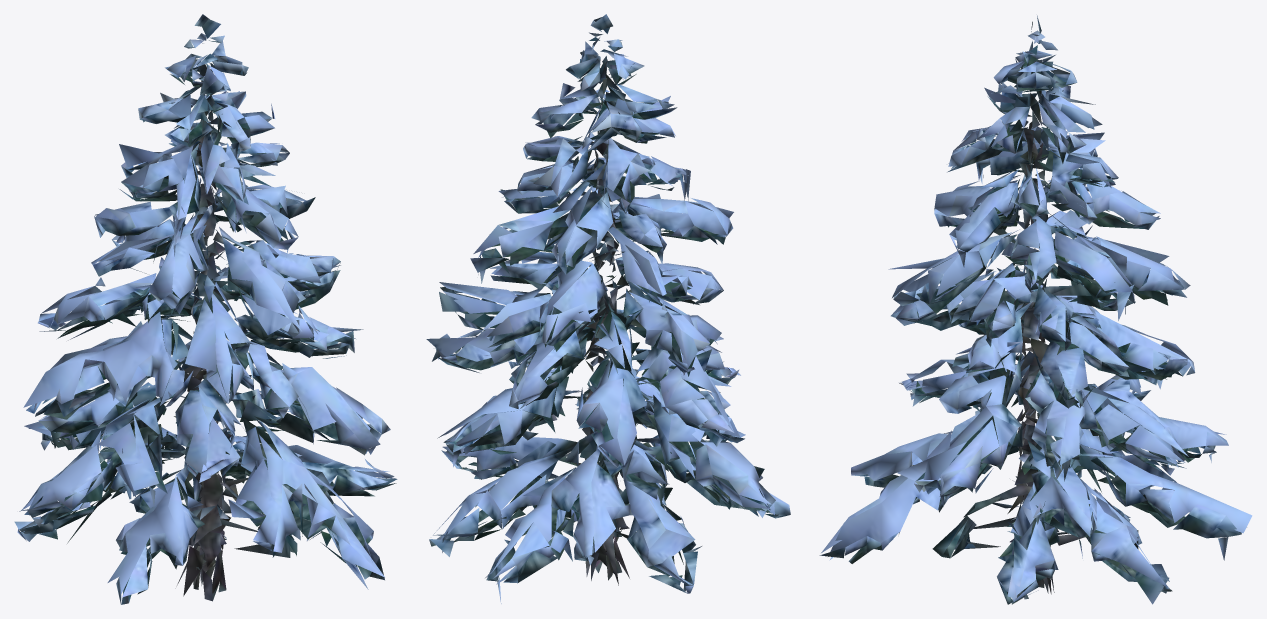
The model's file is pinheiro_neve_lod1.glb.
The picture shows the model from 3 angles, left to right: view 1: azimuth 30°, elevation 25°; view 2: azimuth 150°, elevation 25°; view 3: azimuth 270°, elevation 25°; orthographic projection. The views are drawn at different scales.
Parts seen in each view (by area): view 1: pinheiro_neve; view 2: pinheiro_neve; view 3: pinheiro_neve.
Boxes of the visible parts, left/top/right/bottom form: pinheiro_neve: left=14, top=14, right=397, bottom=604; pinheiro_neve: left=426, top=14, right=790, bottom=603; pinheiro_neve: left=819, top=15, right=1252, bottom=604.
Bounding box in the file's own units: 7.12 × 11 × 7.46.
Materials: 1 (1 with a texture image).
